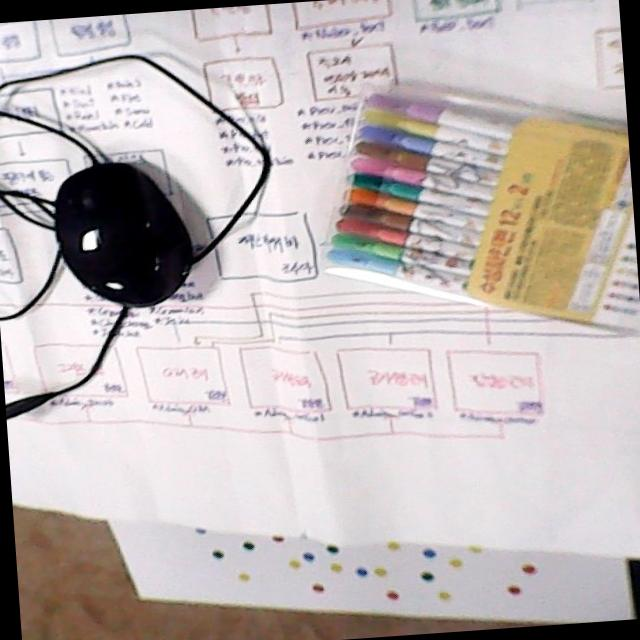mouse: (45, 151, 200, 314)
signpen: (313, 66, 640, 338)
